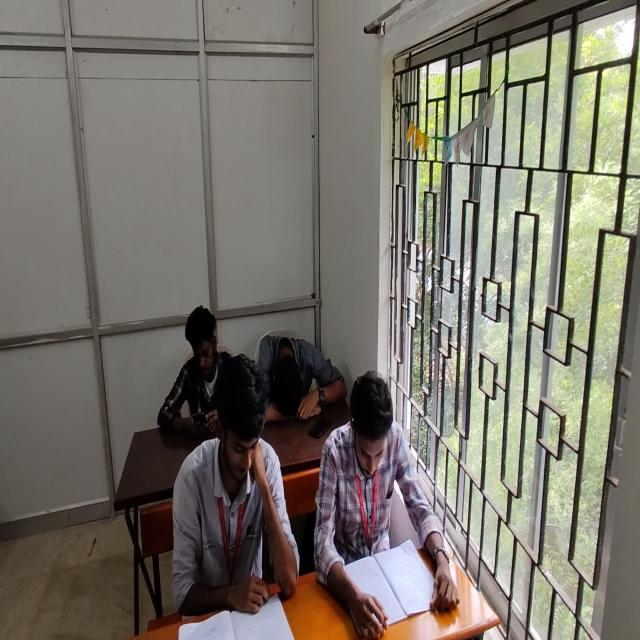reading: (171, 348, 299, 622), (330, 367, 452, 639)
sleeping: (260, 334, 343, 426)
using_mobile: (156, 306, 234, 440)
